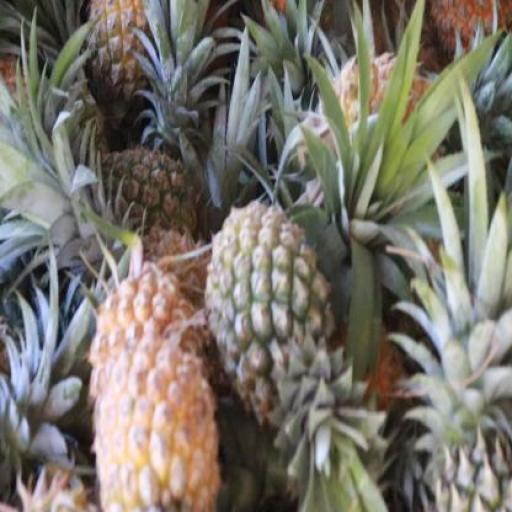------------------------------: (206, 197, 334, 395), (84, 0, 156, 103)
Pineapple - v8 v1: (94, 346, 220, 512)
